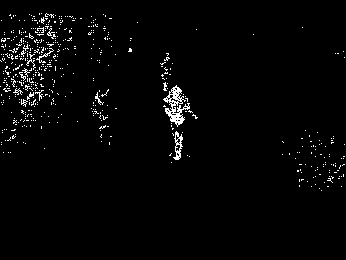person: (166, 86, 199, 161)
